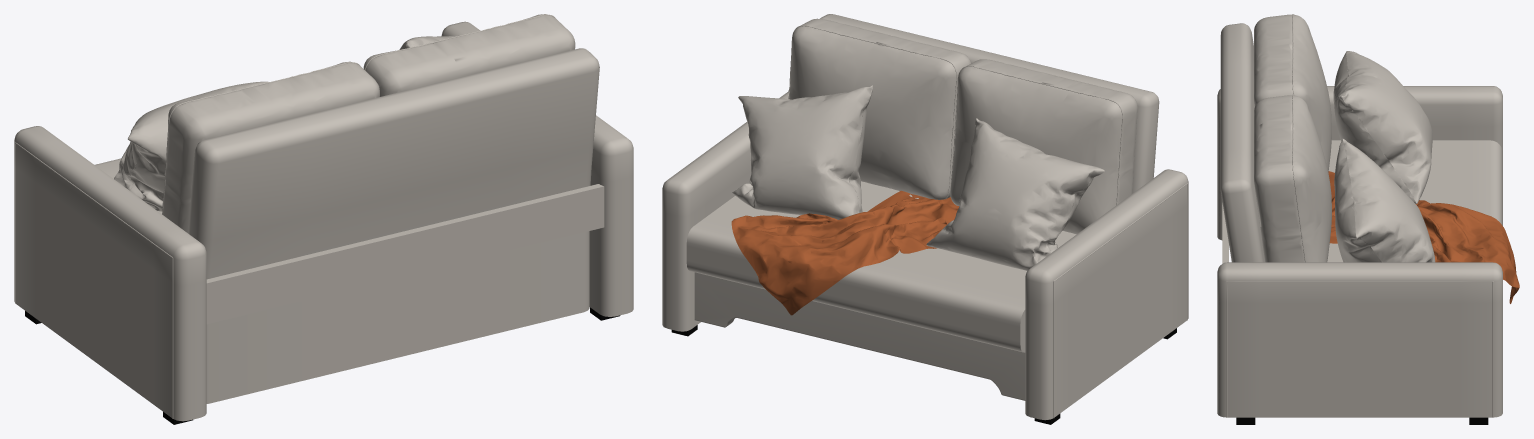
Rendered from backseda_LOW.fbx.
3 renders of one model, left to right at view 1: azimuth 30°, elevation 25°; view 2: azimuth 150°, elevation 25°; view 3: azimuth 270°, elevation 25°, orthographic. The views are drawn at different scales.
Parts seen in each view (by area): view 1: ChamferBox014, Object009, ChamferBox016, Box134, Object010, pil005, Shape007, Shape008; view 2: ChamferBox016, pil005, Object009, ChamferBox015, Object011, Line267, Object010, ChamferBox014, Shape008, Shape007; view 3: Object010, pil005, ChamferBox016, ChamferBox014, ChamferBox015, Object009, Object011, Shape007, Shape008, Box133, Box134.
Boxes of the visible parts, bbox=[...] form: ChamferBox014: bbox=[188, 48, 599, 403]; Object009: bbox=[14, 126, 206, 421]; ChamferBox016: bbox=[162, 14, 575, 233]; Box134: bbox=[206, 184, 604, 324]; Object010: bbox=[441, 21, 633, 316]; pil005: bbox=[114, 35, 459, 211]; Shape007: bbox=[15, 142, 173, 418]; Shape008: bbox=[162, 14, 555, 214]; ChamferBox016: bbox=[789, 18, 1137, 234]; pil005: bbox=[732, 85, 1104, 270]; Object009: bbox=[1025, 169, 1188, 420]; ChamferBox015: bbox=[686, 181, 1076, 352]; Object011: bbox=[731, 190, 959, 315]; Line267: bbox=[694, 272, 1025, 400]; Object010: bbox=[662, 91, 788, 331]; ChamferBox014: bbox=[820, 14, 1159, 193]; Shape008: bbox=[788, 25, 1122, 204]; Shape007: bbox=[1053, 183, 1187, 418]; Object010: bbox=[1217, 262, 1502, 417]; pil005: bbox=[1333, 51, 1435, 262]; ChamferBox016: bbox=[1254, 14, 1331, 262]; ChamferBox014: bbox=[1220, 23, 1264, 262]; ChamferBox015: bbox=[1327, 140, 1502, 262]; Object009: bbox=[1217, 86, 1502, 240]; Object011: bbox=[1328, 171, 1519, 303]; Shape007: bbox=[1226, 281, 1493, 417]; Shape008: bbox=[1292, 14, 1305, 262]; Box133: bbox=[1236, 417, 1488, 424]; Box134: bbox=[1222, 203, 1228, 263].
Size of the model in its own units: 1433 by 856 by 963.
